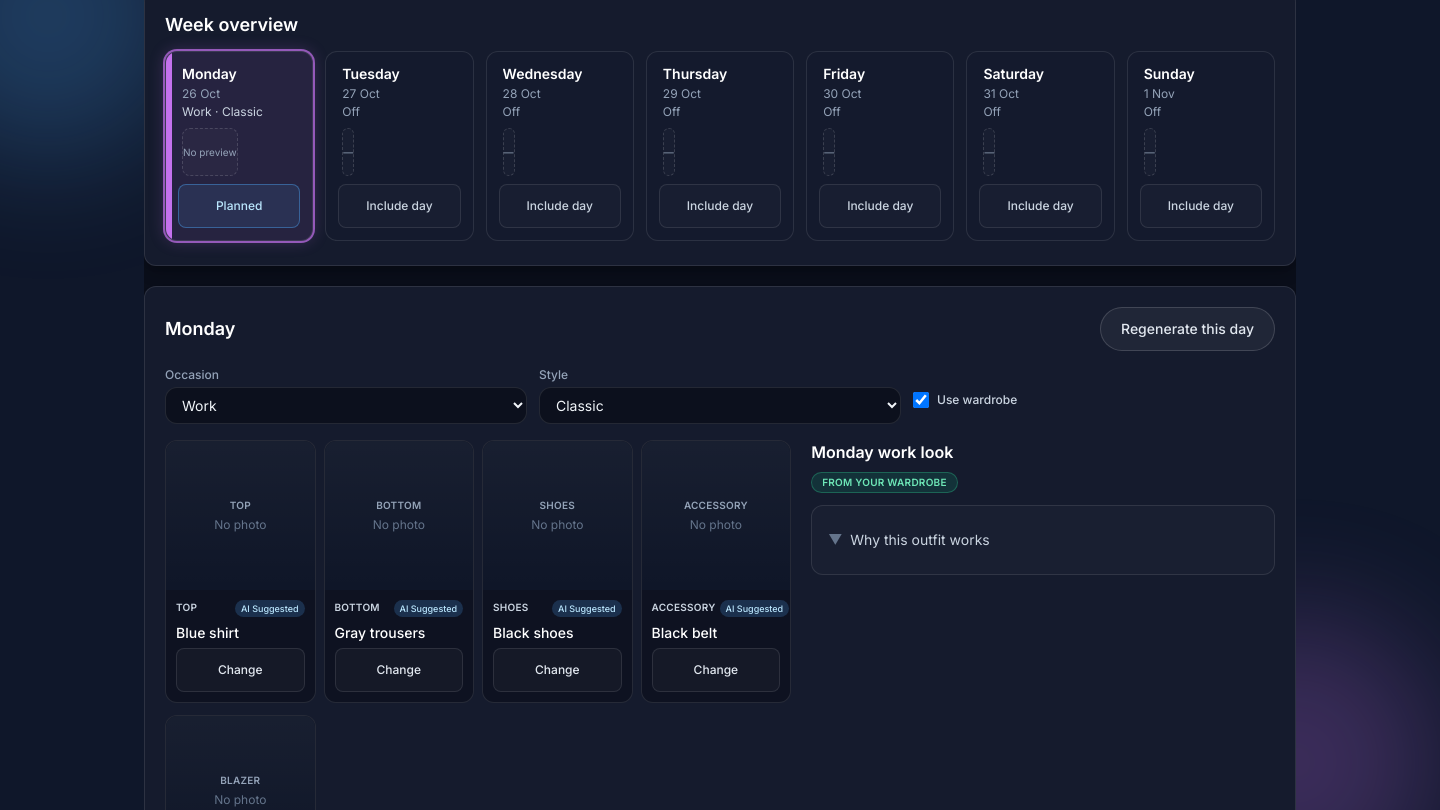
Test: Week Outfit Planner › switches primary CTA to Save plan when dirty after generate
(page scrolled)
Select "Date Night" in the dropdown named "Monday occasion" at (346, 406), box left=165, top=387, right=527, bottom=424
(page scrolled)
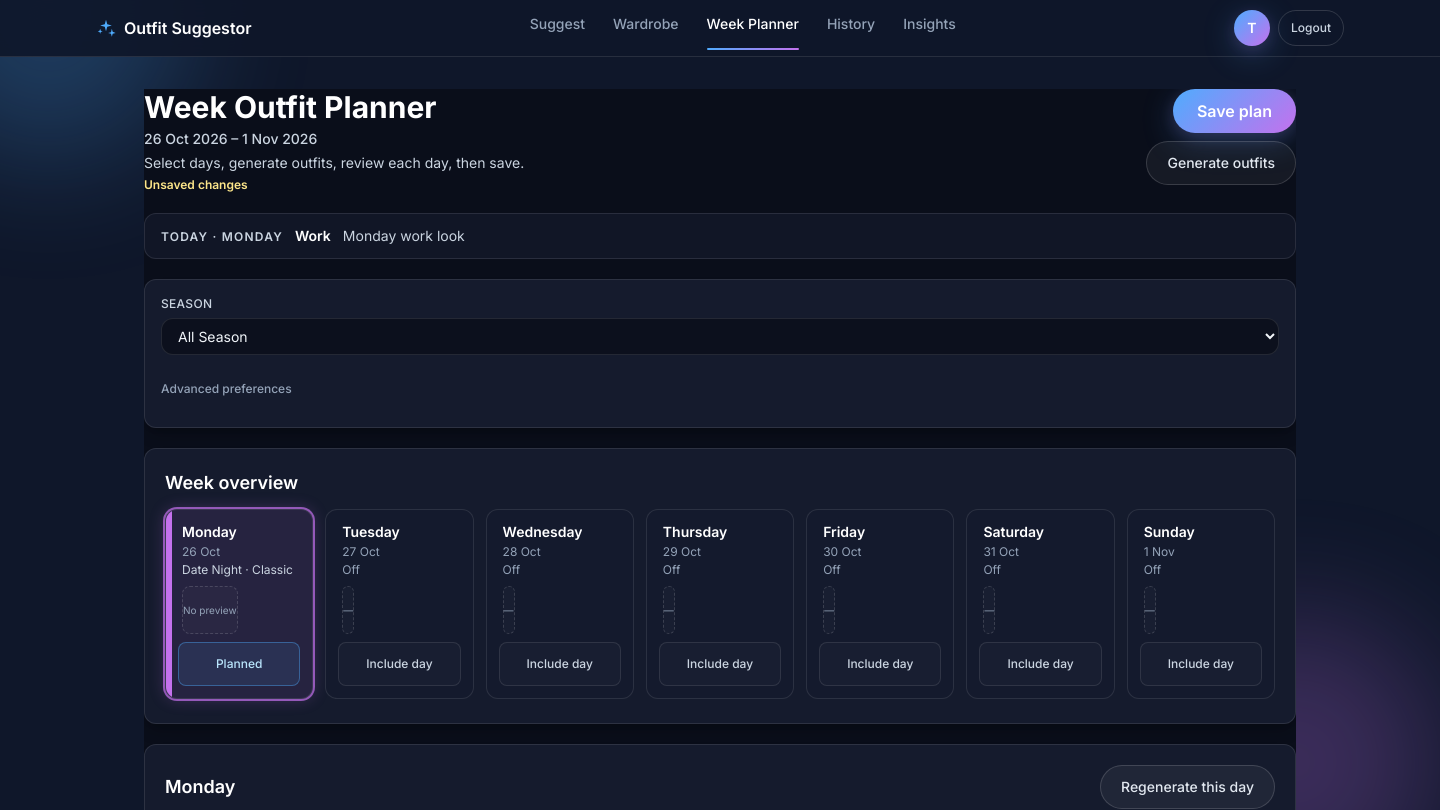
Now the button with test id "week-save-plan" reads "Save plan", box left=1173, top=89, right=1296, bottom=133
Now the message with test id "week-planner-doc-state" reads "Unsaved changes", box left=144, top=177, right=248, bottom=192
